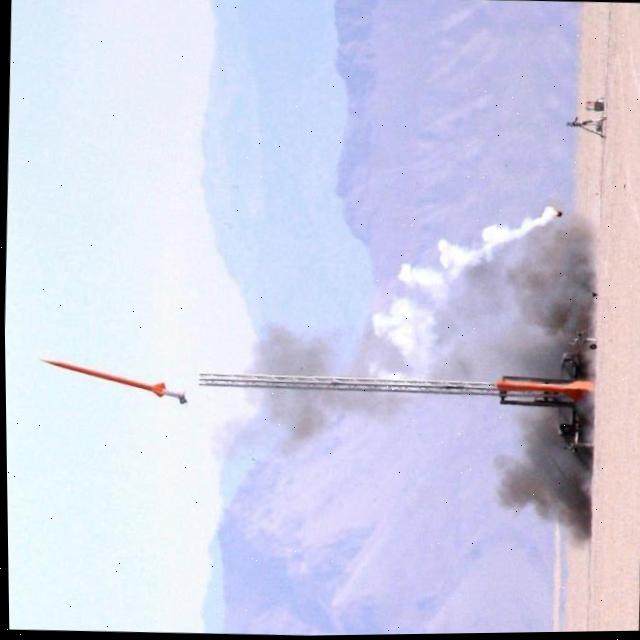missile: (33, 350, 189, 413)
